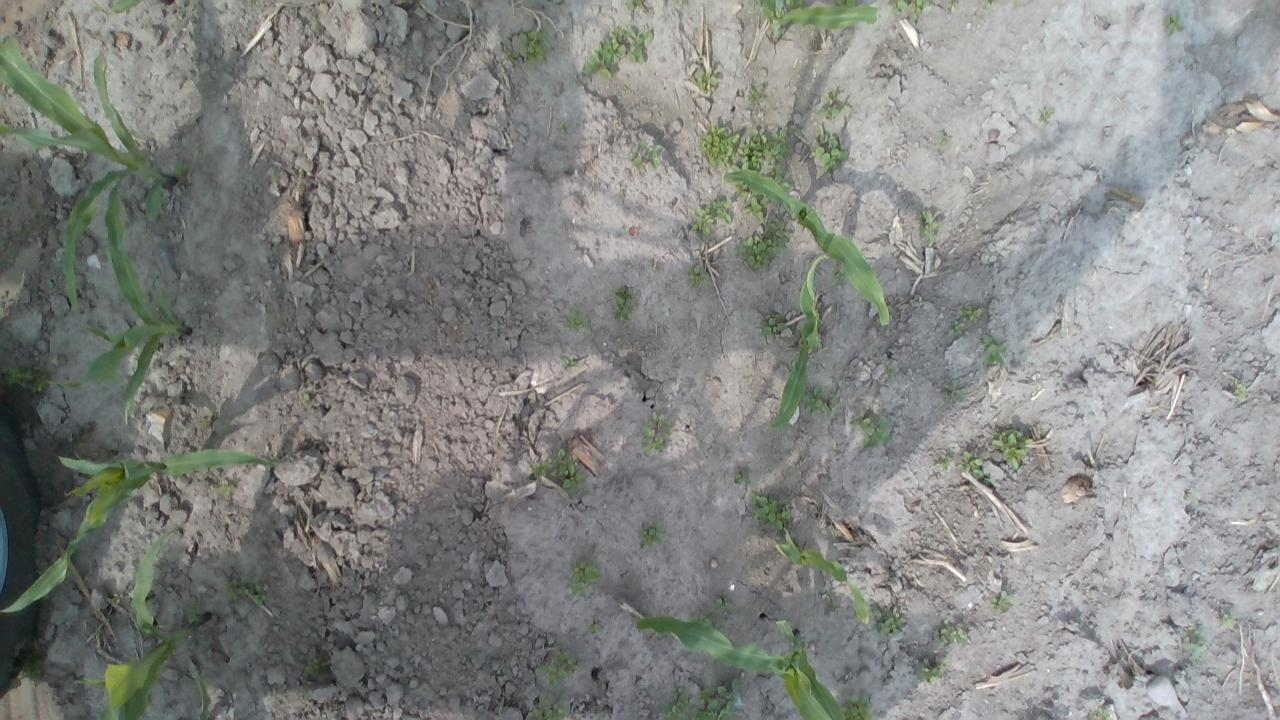Maize: (0, 32, 182, 316), (1, 446, 284, 616), (58, 169, 195, 427), (723, 164, 891, 330), (95, 524, 217, 718), (635, 612, 847, 718), (769, 254, 838, 434), (766, 528, 872, 629), (754, 1, 880, 38)
Weeds: (702, 124, 798, 176), (656, 679, 752, 719), (582, 26, 652, 75), (739, 219, 793, 273), (528, 450, 582, 502), (731, 172, 796, 215), (740, 488, 791, 531), (218, 577, 276, 614), (686, 194, 732, 238), (804, 124, 848, 169), (502, 28, 548, 66), (534, 646, 572, 688), (934, 453, 989, 481), (639, 412, 672, 458), (988, 429, 1028, 466), (799, 384, 839, 419), (854, 410, 890, 446), (567, 559, 598, 600), (869, 601, 904, 636), (946, 300, 980, 336), (979, 336, 1010, 368), (822, 90, 848, 126), (936, 624, 974, 648), (1180, 628, 1210, 658), (914, 658, 946, 686), (921, 209, 941, 252), (632, 144, 662, 172), (839, 696, 872, 720), (612, 289, 634, 325), (638, 520, 662, 552), (941, 382, 967, 410), (1162, 10, 1186, 38), (692, 70, 719, 94), (762, 316, 788, 340), (564, 310, 588, 336), (534, 702, 570, 719), (742, 83, 766, 106), (1219, 613, 1243, 634), (992, 590, 1012, 614), (688, 265, 707, 289), (732, 464, 749, 490), (1038, 104, 1054, 124), (938, 128, 952, 150), (1233, 384, 1247, 397)
